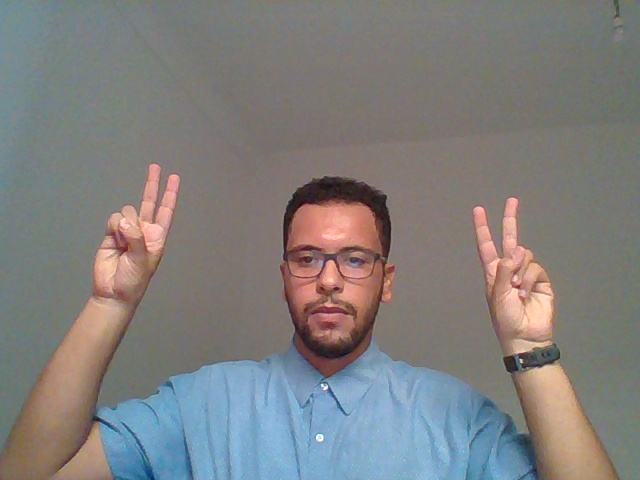vectory: (457, 182, 594, 450), (74, 141, 195, 388)
